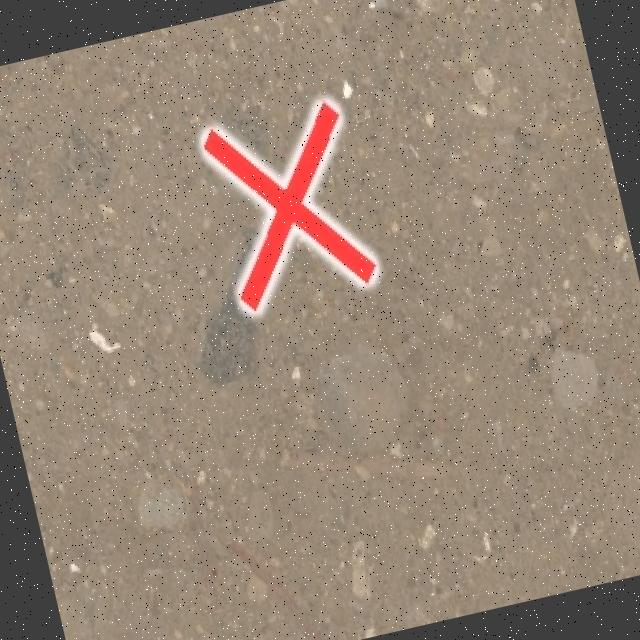x_marker: (200, 99, 378, 312)
